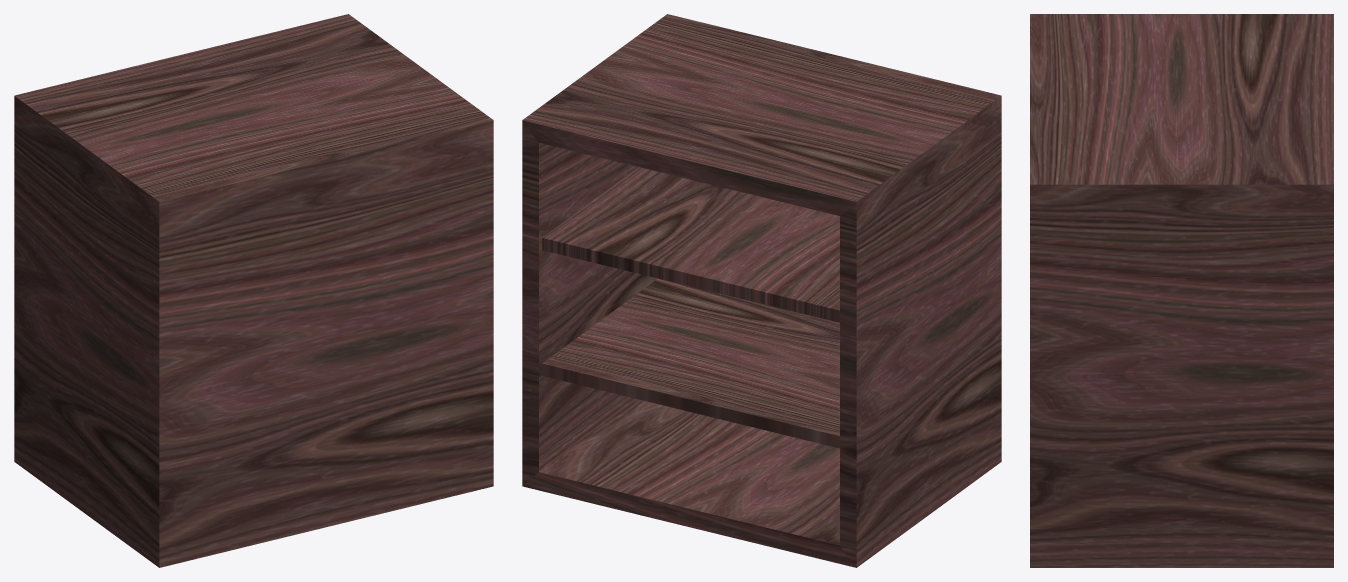
File: Bookshelf_top.fbx
3 renders of one model, left to right at view 1: azimuth 30°, elevation 25°; view 2: azimuth 150°, elevation 25°; view 3: azimuth 270°, elevation 25°, orthographic. The views are drawn at different scales.
Visible parts, largest first — view 1: Bookshelf_top; view 2: Bookshelf_top; view 3: Bookshelf_top.
Boxes of the visible parts, bbox=[...] form: Bookshelf_top: bbox=[14, 14, 493, 567]; Bookshelf_top: bbox=[522, 14, 1001, 567]; Bookshelf_top: bbox=[1030, 14, 1333, 567].
Size of the model in its own units: 0.3884 by 0.4063 by 0.2921.
